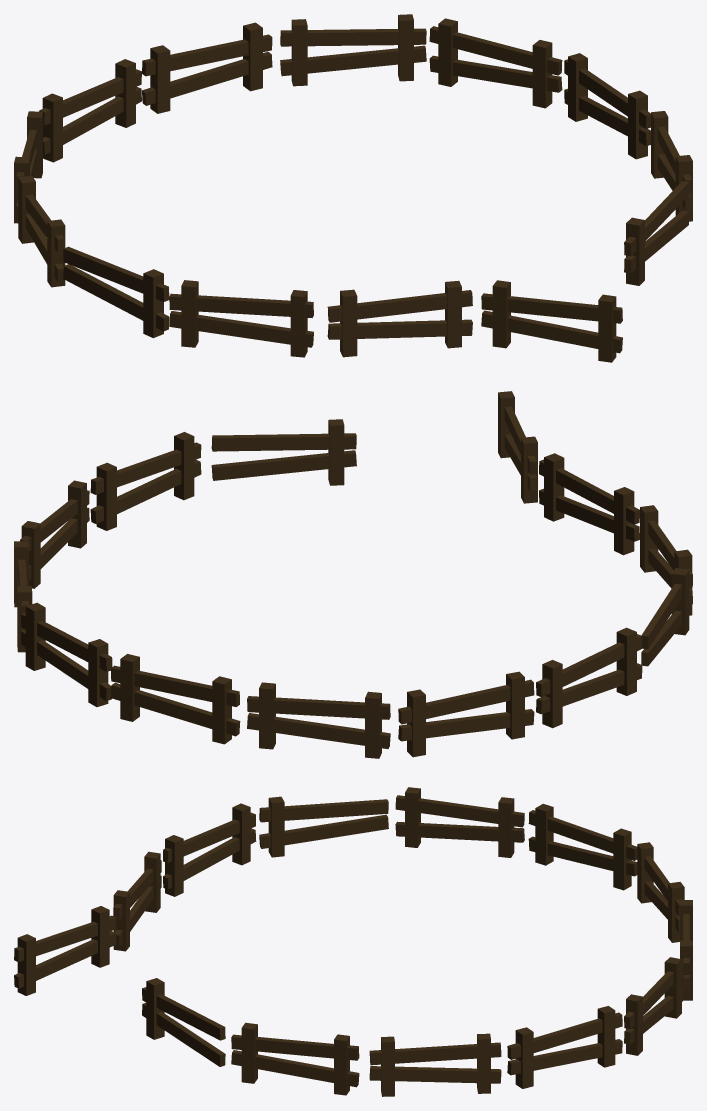
Rendered from FenceFull.fbx.
The picture shows the model from 3 angles, top to bottom: view 1: azimuth 30°, elevation 25°; view 2: azimuth 150°, elevation 25°; view 3: azimuth 270°, elevation 25°; orthographic projection. The views are drawn at different scales.
Parts seen in each view (by area): view 1: Cube.004, Cube.005, Cube.025, Cube.024, Cube.043, Cube.044, Cube.041, Cube.040, Cube.008, Cube.009, Cube.001, Cube (+35 smaller); view 2: Cube.021, Cube.020, Cube.037, Cube.038, Cube.034, Cube.035, Cube.001, Cube, Cube.017, Cube.030, Cube.016, Cube.031 (+32 smaller); view 3: Cube.028, Cube.027, Cube.012, Cube.013, Cube.030, Cube.031, Cube.017, Cube.016, Cube.008, Cube.009, Cube.034, Cube.035 (+35 smaller).
Part boxes in pixels (bbox=[...]): Cube.004: bbox=[280, 28, 426, 46]; Cube.005: bbox=[280, 45, 426, 76]; Cube.025: bbox=[169, 311, 313, 347]; Cube.024: bbox=[169, 293, 313, 317]; Cube.043: bbox=[327, 290, 472, 322]; Cube.044: bbox=[327, 319, 472, 339]; Cube.041: bbox=[481, 310, 622, 353]; Cube.040: bbox=[481, 293, 622, 323]; Cube.008: bbox=[429, 26, 562, 75]; Cube.009: bbox=[429, 55, 562, 92]; Cube.001: bbox=[142, 51, 272, 105]; Cube: bbox=[142, 34, 272, 76]; Cube.021: bbox=[211, 450, 356, 480]; Cube.020: bbox=[211, 433, 356, 451]; Cube.037: bbox=[247, 696, 390, 719]; Cube.038: bbox=[247, 713, 390, 748]; Cube.034: bbox=[398, 679, 534, 724]; Cube.035: bbox=[398, 709, 534, 741]; Cube.001: bbox=[110, 682, 240, 736]; Cube: bbox=[110, 665, 239, 706]; Cube.017: bbox=[90, 459, 201, 523]; Cube.030: bbox=[536, 634, 642, 697]; Cube.016: bbox=[90, 442, 201, 494]; Cube.031: bbox=[536, 663, 642, 714]; Cube.028: bbox=[259, 814, 388, 848]; Cube.027: bbox=[259, 799, 388, 822]; Cube.012: bbox=[369, 1042, 501, 1065]; Cube.013: bbox=[369, 1066, 501, 1083]; Cube.030: bbox=[395, 795, 524, 827]; Cube.031: bbox=[395, 821, 524, 842]; Cube.017: bbox=[231, 1050, 359, 1087]; Cube.016: bbox=[231, 1034, 359, 1060]; Cube.008: bbox=[507, 1012, 622, 1059]; Cube.009: bbox=[507, 1039, 622, 1075]; Cube.034: bbox=[528, 810, 637, 860]; Cube.035: bbox=[528, 836, 637, 876].
Bounding box in the file's own units: 1679 × 1887 × 167.
